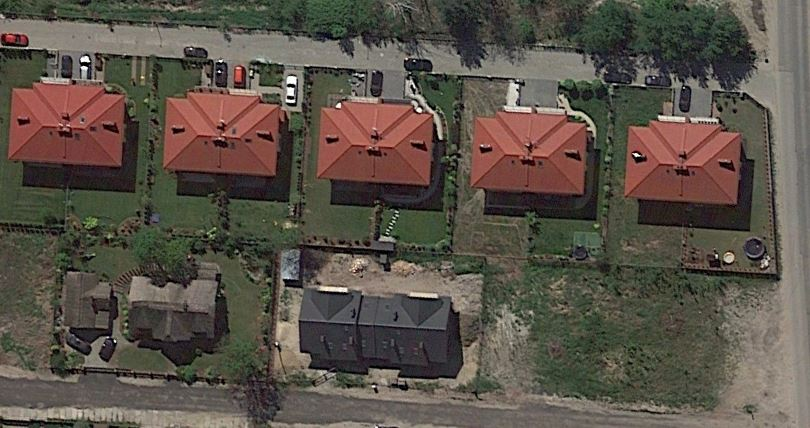family house: (125, 267, 225, 349), (61, 267, 116, 336)
terrace house: (292, 279, 457, 373), (620, 108, 747, 211), (6, 72, 129, 175), (468, 106, 589, 203), (163, 89, 285, 182), (318, 94, 436, 190)
